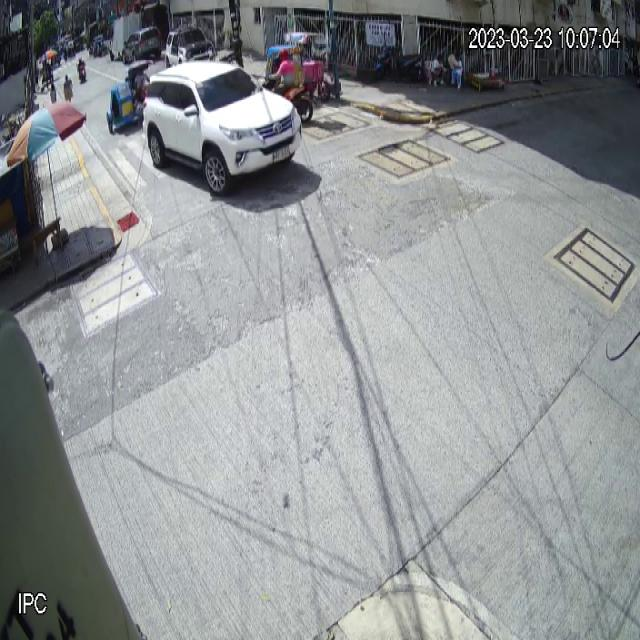Car: (142, 59, 302, 197)
Tricycle: (106, 58, 151, 134)
